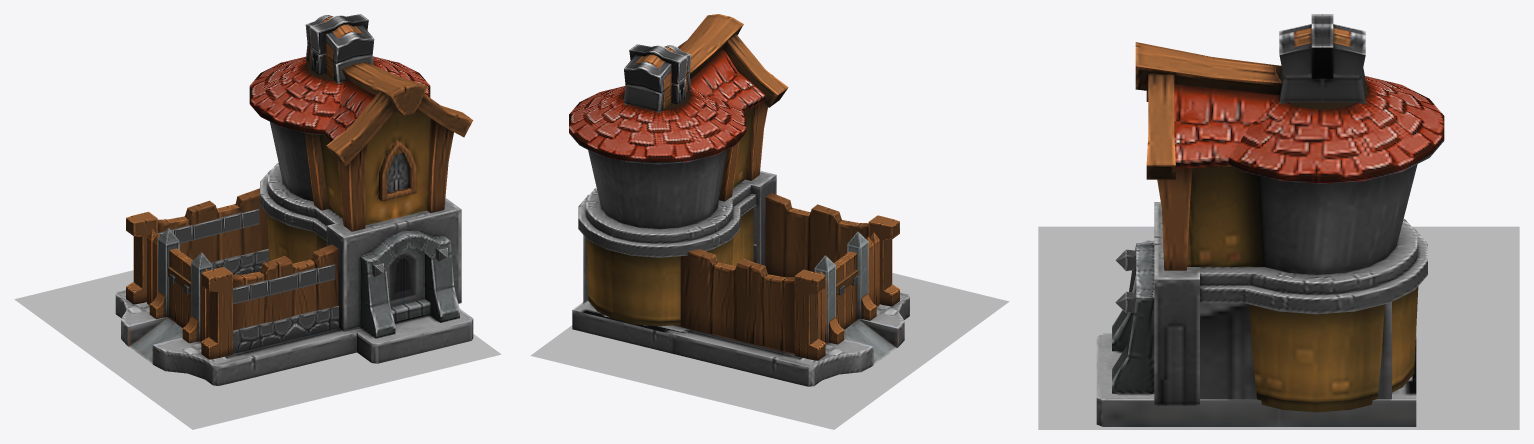
The model's file is C_Treasury_LV2.fbx.
3 views of the same model, side by side, from view 1: azimuth 30°, elevation 25°; view 2: azimuth 150°, elevation 25°; view 3: azimuth 270°, elevation 25° (orthographic). The views are drawn at different scales.
Visible parts, largest first — view 1: Teasury_LV02_0_mesh, Teasury_LV02_1_mesh; view 2: Teasury_LV02_0_mesh, Teasury_LV02_1_mesh; view 3: Teasury_LV02_0_mesh, Teasury_LV02_1_mesh.
Part boxes in pixels (x1=…): Teasury_LV02_0_mesh: x1=115, y1=14, x2=473, y2=385; Teasury_LV02_1_mesh: x1=14, y1=270, x2=501, y2=429; Teasury_LV02_0_mesh: x1=569, y1=14, x2=909, y2=386; Teasury_LV02_1_mesh: x1=530, y1=273, x2=1009, y2=429; Teasury_LV02_0_mesh: x1=1096, y1=14, x2=1444, y2=426; Teasury_LV02_1_mesh: x1=1038, y1=226, x2=1519, y2=429.
Size of the model in its own units: 129 by 101 by 120.
